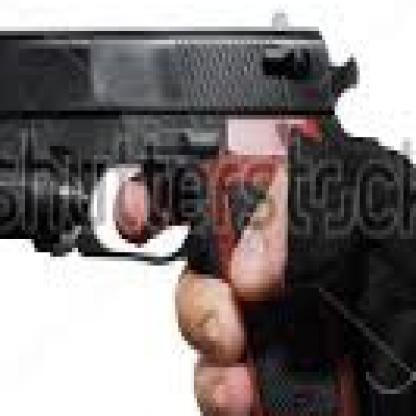gun: (0, 0, 388, 412)
